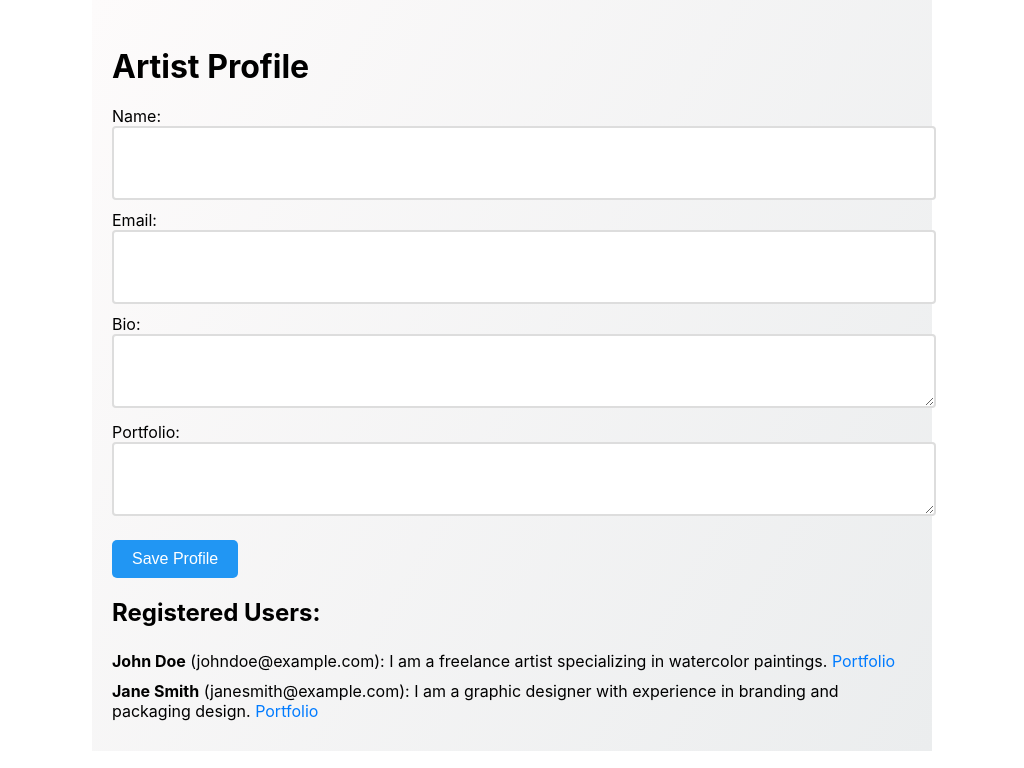
Test case: ArtistProfile › adds a new user to the list of registered users when the form is submitted
Type "Sarah Johnson" into the field labelled "Name:" at (524, 162), box [112, 126, 936, 200]
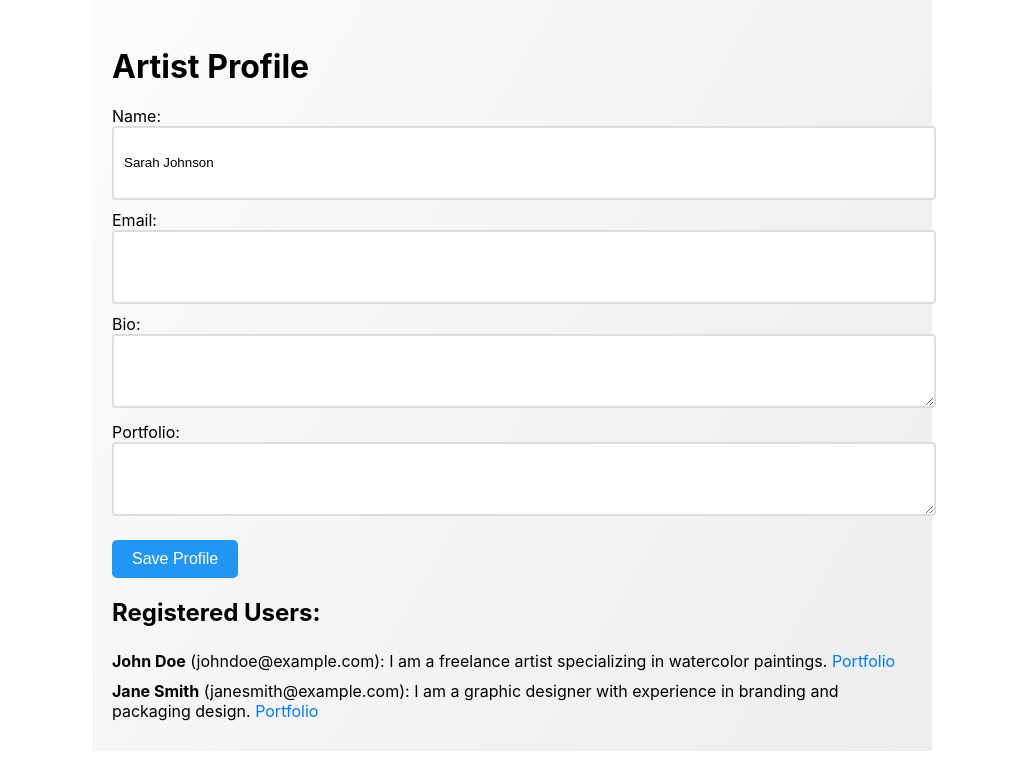
Type "sarah@example.com" into the field labelled "Email:" at (524, 266), box [112, 230, 936, 304]
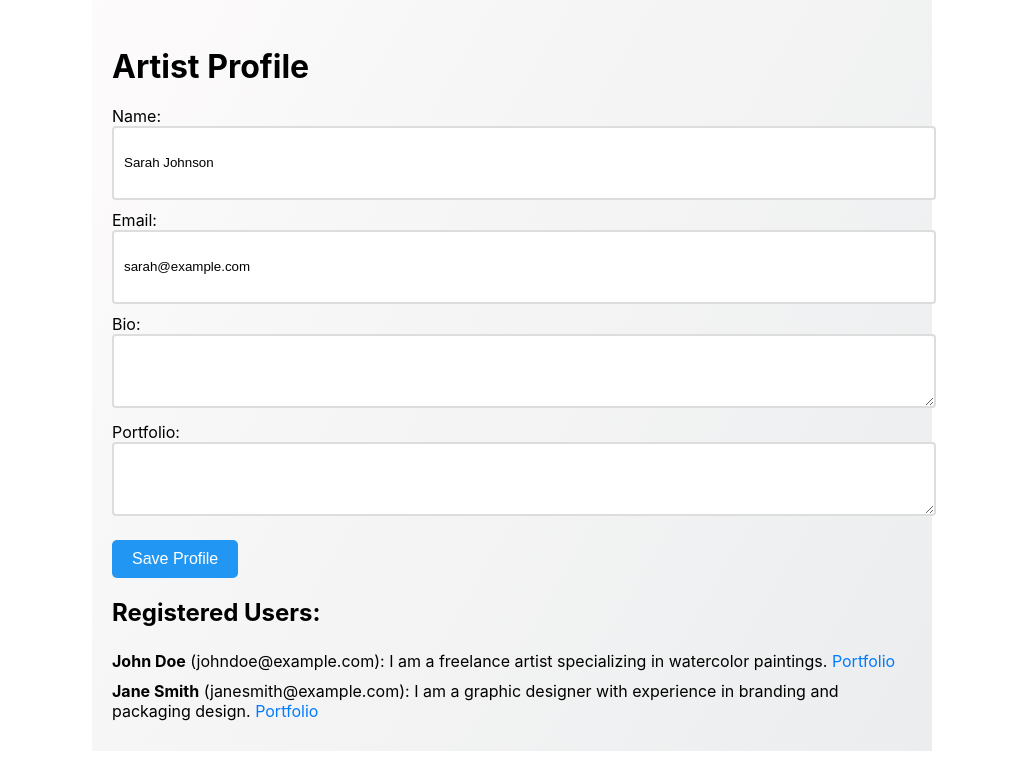
Type "I am a freelance photographer specializing in portrait photography." into the text box labelled "Bio:" at (524, 370), box [112, 334, 936, 408]
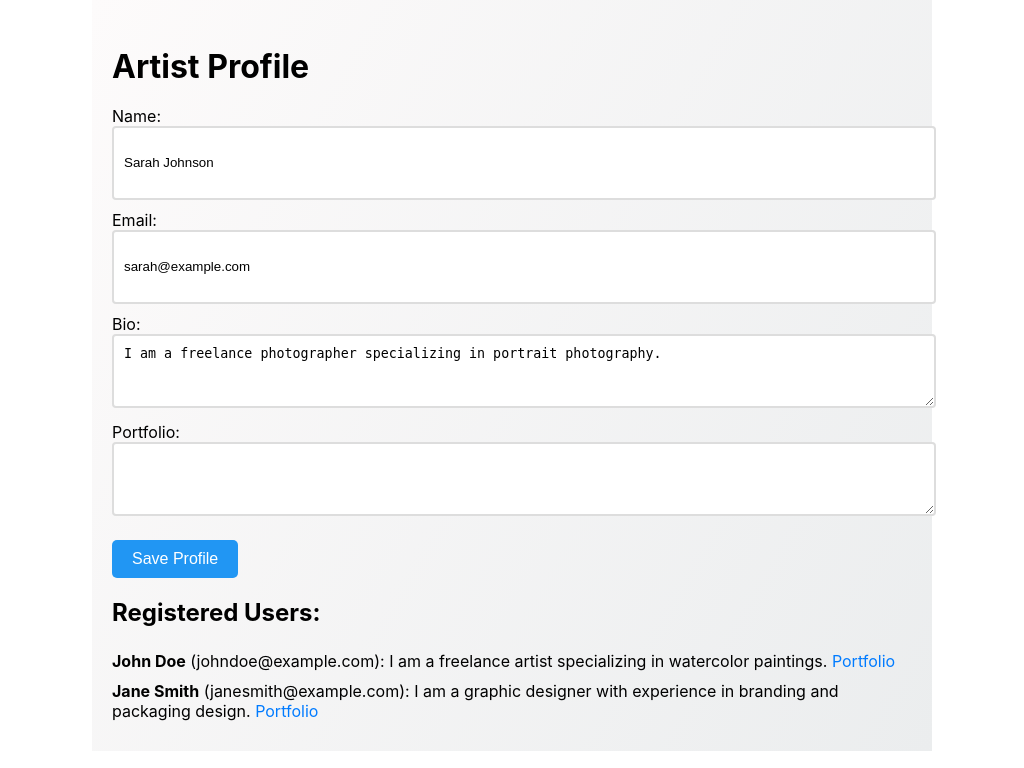
Type "https://sarah-johnson-portfolio.com" into the text box labelled "Portfolio:" at (524, 478), box [112, 442, 936, 516]
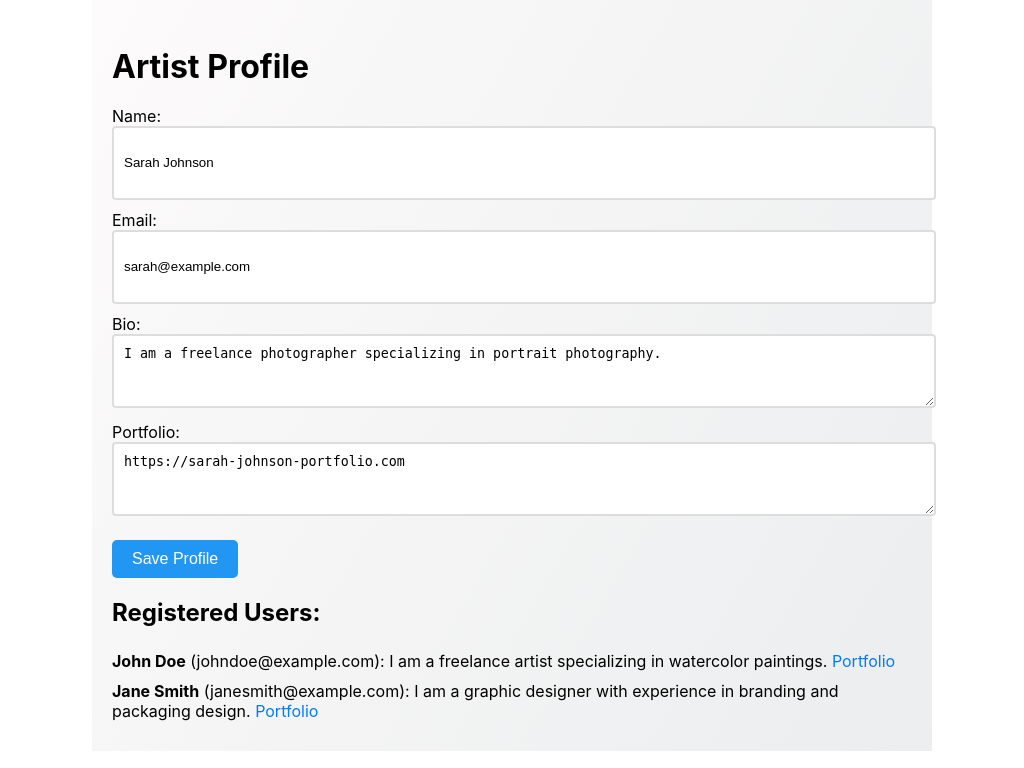
Submit the form, box [112, 106, 912, 578]
(page scrolled)
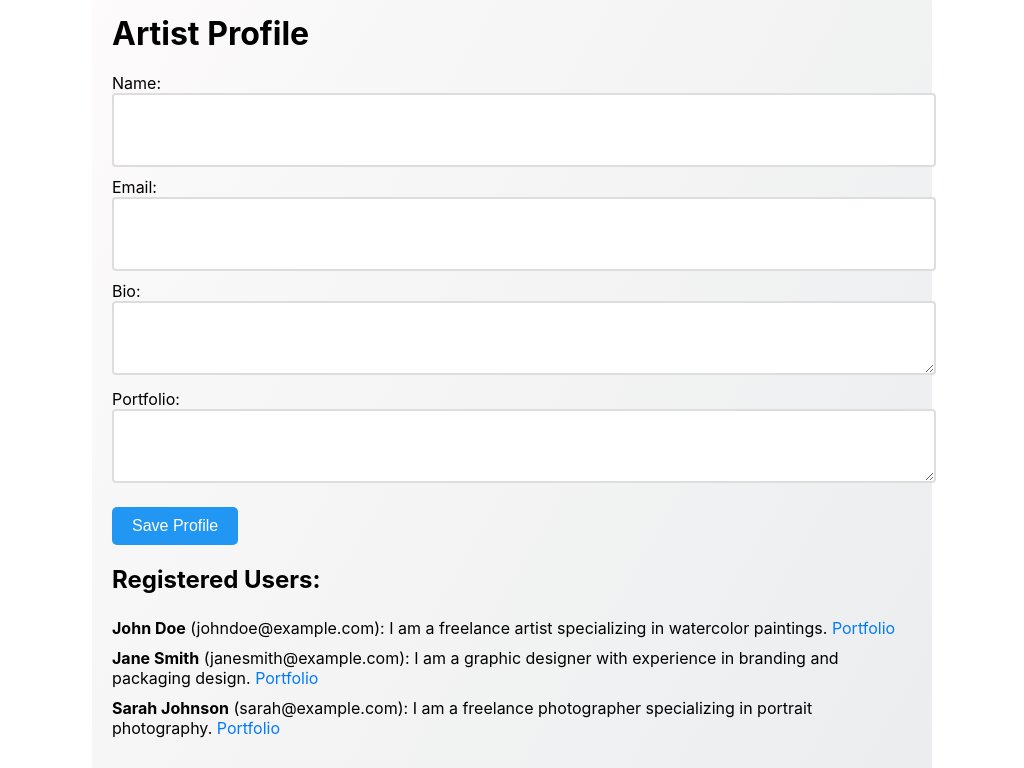
Expected: the list item that starts with "Sarah Johnson" is shown, [112, 698, 229, 718]
Expected: the list item that starts with "Sarah Johnson" shows "sarah@example.com", [239, 698, 398, 718]
Expected: the list item that starts with "Sarah Johnson" shows "I am a freelance photographer specializing in portrait photography.", [112, 698, 812, 738]
